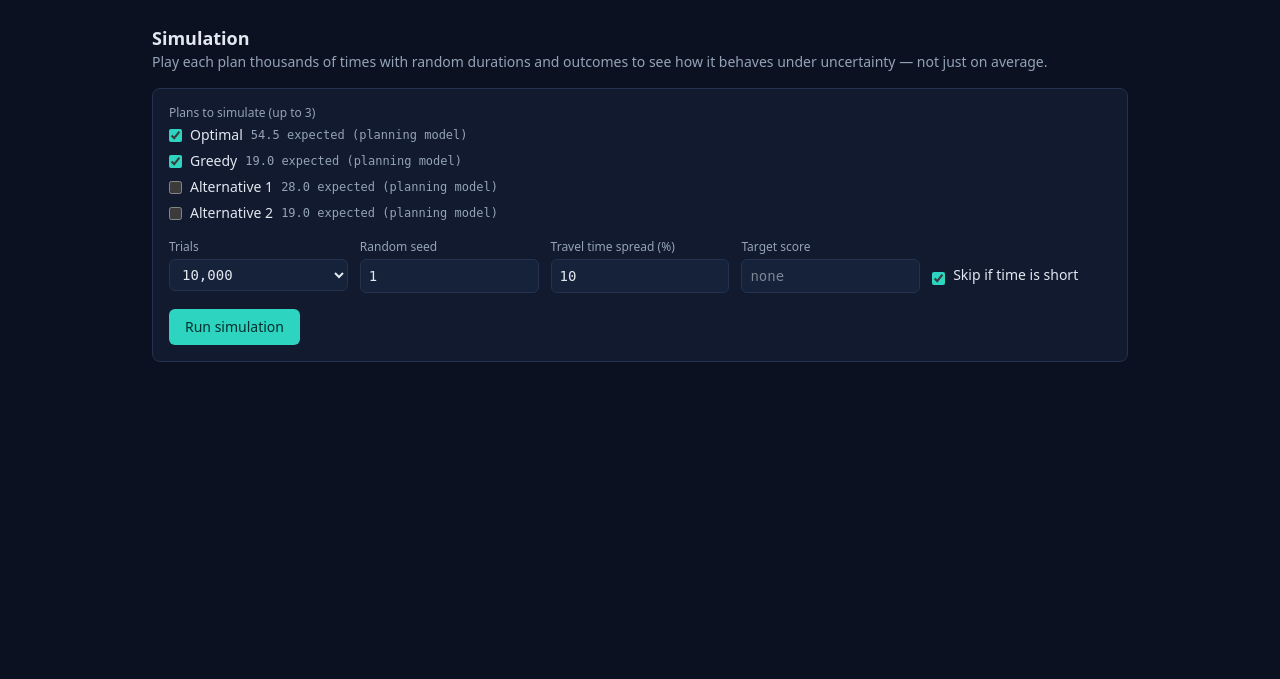
saving experiments › saves the run with its request so it can be reproduced
Click the button "Run simulation" at (234, 327), box [169,309,300,345]
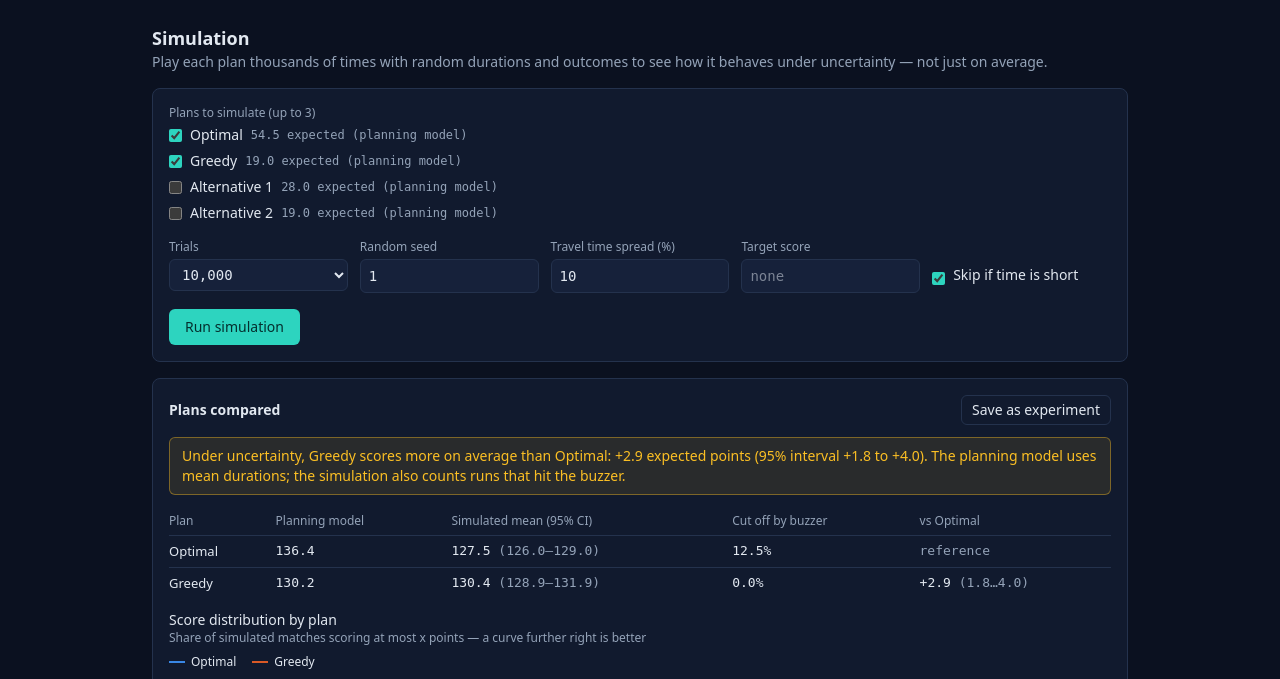
Click the button "Save as experiment" at (1036, 410), box [961,395,1111,425]
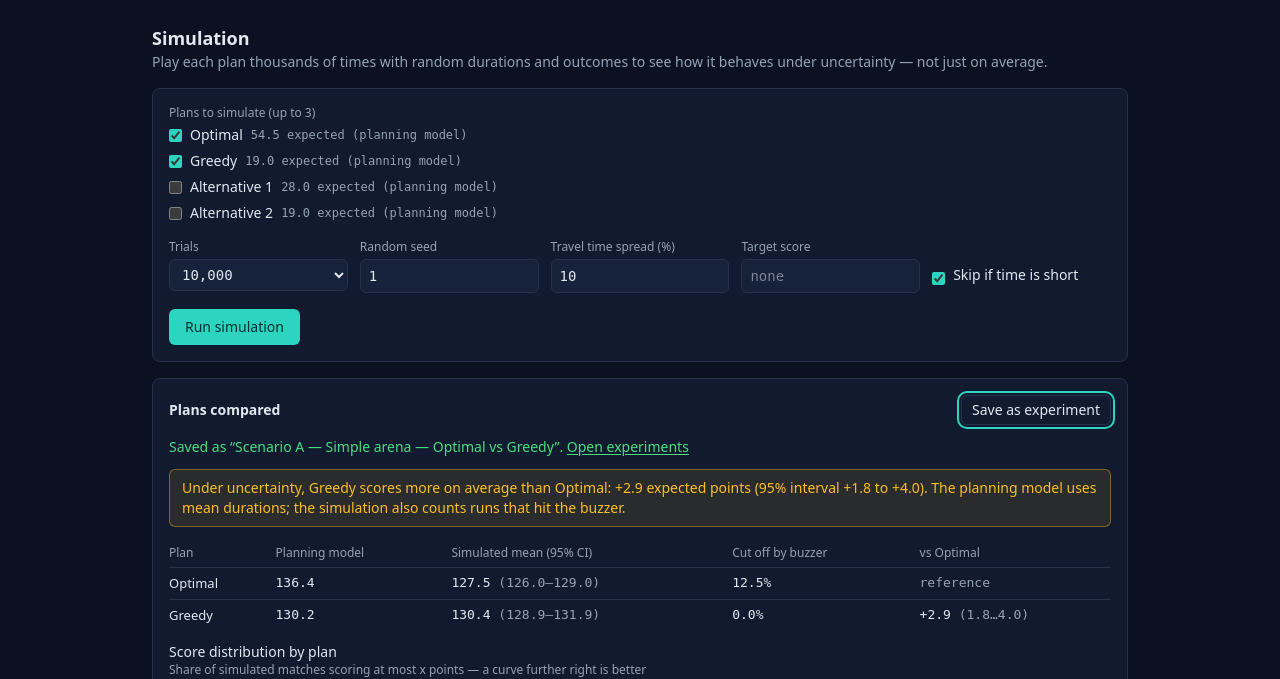
Check: the text "Saved as" is shown, box [169,437,563,456]
